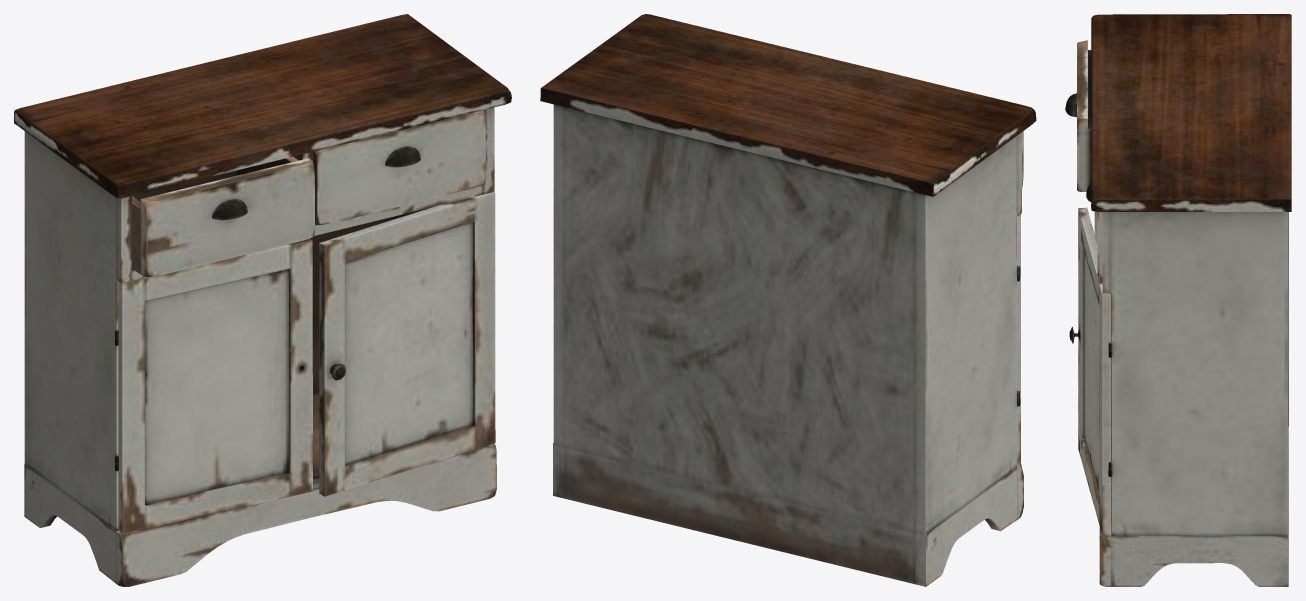
The model's file is kitchen_cabinet.glb.
The picture shows the model from 3 angles, left to right: view 1: azimuth 30°, elevation 25°; view 2: azimuth 150°, elevation 25°; view 3: azimuth 270°, elevation 25°; orthographic projection. The views are drawn at different scales.
Visible parts, largest first — view 1: painted_wooden_cabinet; view 2: painted_wooden_cabinet; view 3: painted_wooden_cabinet.
Part boxes in pixels (x1=…): painted_wooden_cabinet: x1=14, y1=14, x2=511, y2=586; painted_wooden_cabinet: x1=540, y1=14, x2=1036, y2=586; painted_wooden_cabinet: x1=1065, y1=14, x2=1291, y2=586.
Bounding box in the file's own units: 1.19 × 1.18 × 0.6166.
Materials: 1 (1 with a texture image).
